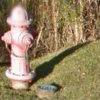Hydrant: (3, 2, 42, 92)
